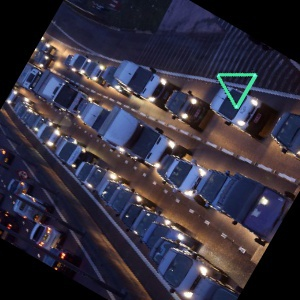triangle: (210, 68, 262, 111)
